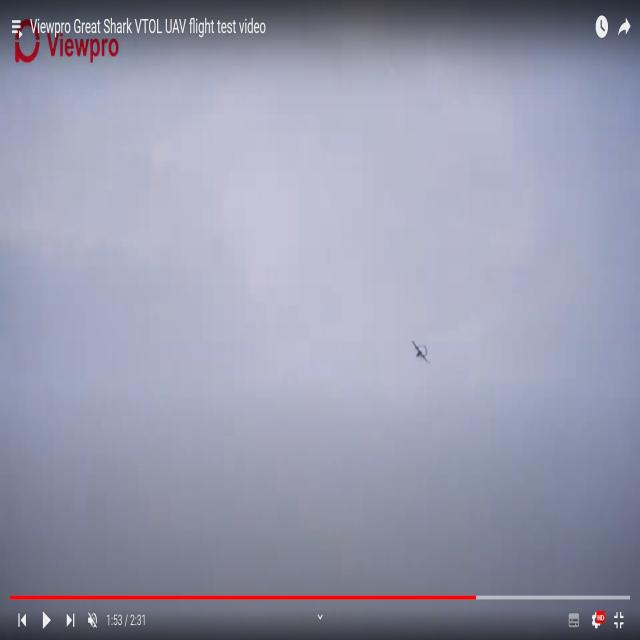iha: (411, 337, 430, 365)
